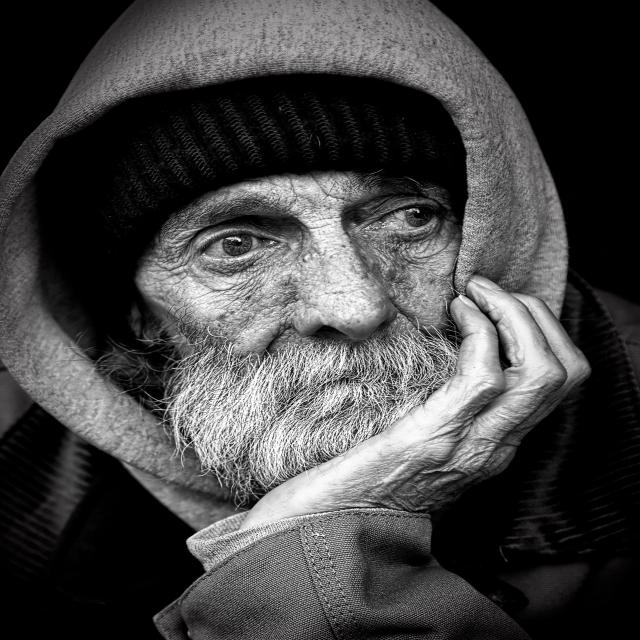front: (126, 178, 482, 450)
